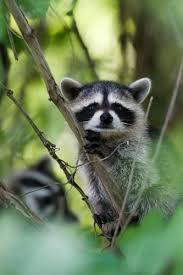raccoon: (55, 70, 183, 234), (0, 148, 85, 235)
